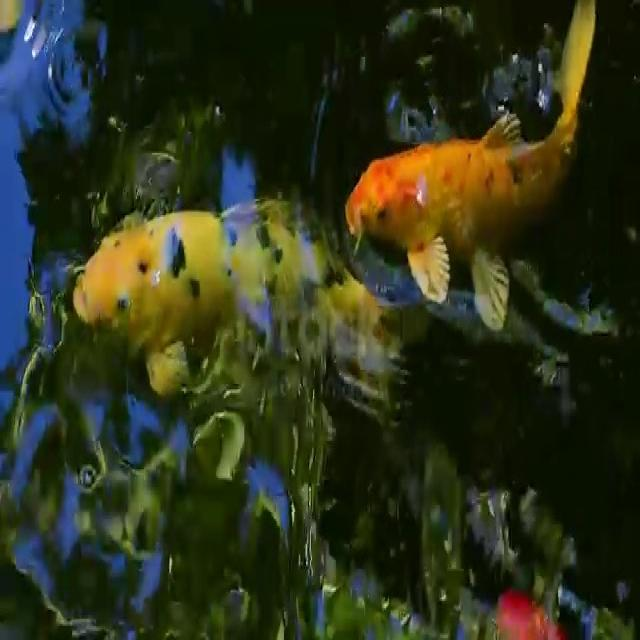fish: (340, 5, 622, 328), (58, 204, 394, 422)
